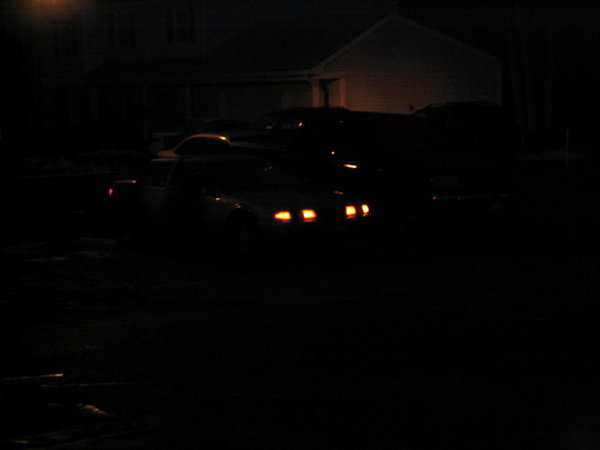car: (96, 135, 386, 262)
